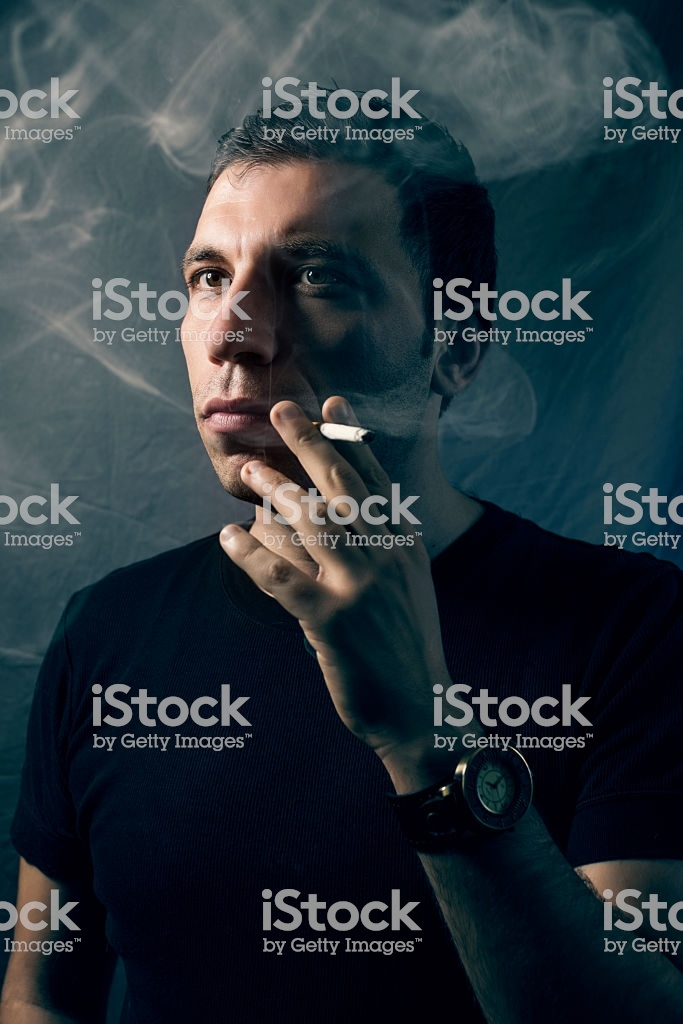sigaretta: (297, 414, 375, 447)
